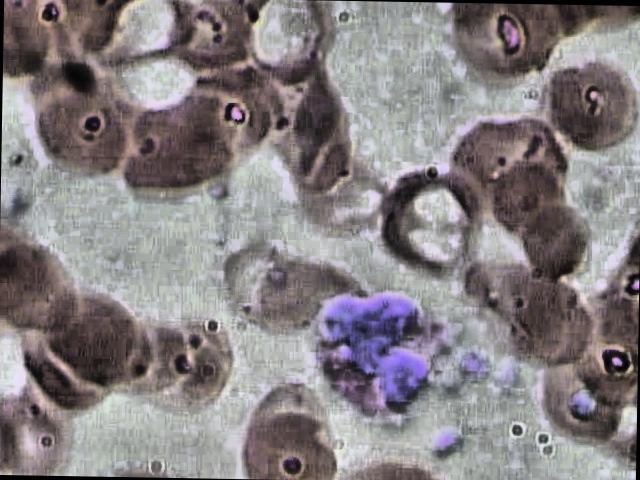Platelets: (493, 355, 530, 401), (429, 415, 466, 461), (456, 339, 492, 385)
RBC: (108, 79, 268, 206), (44, 272, 162, 403), (374, 156, 482, 282), (536, 32, 640, 158), (444, 105, 554, 219), (449, 236, 558, 350), (492, 171, 600, 285), (500, 263, 608, 377), (150, 316, 258, 418), (534, 348, 638, 450), (34, 92, 139, 182), (294, 146, 399, 236), (220, 234, 324, 324), (442, 3, 561, 81), (234, 0, 339, 88), (103, 308, 183, 417), (241, 399, 345, 480), (0, 237, 73, 348), (0, 383, 78, 475)
WBC: (303, 284, 456, 428)
